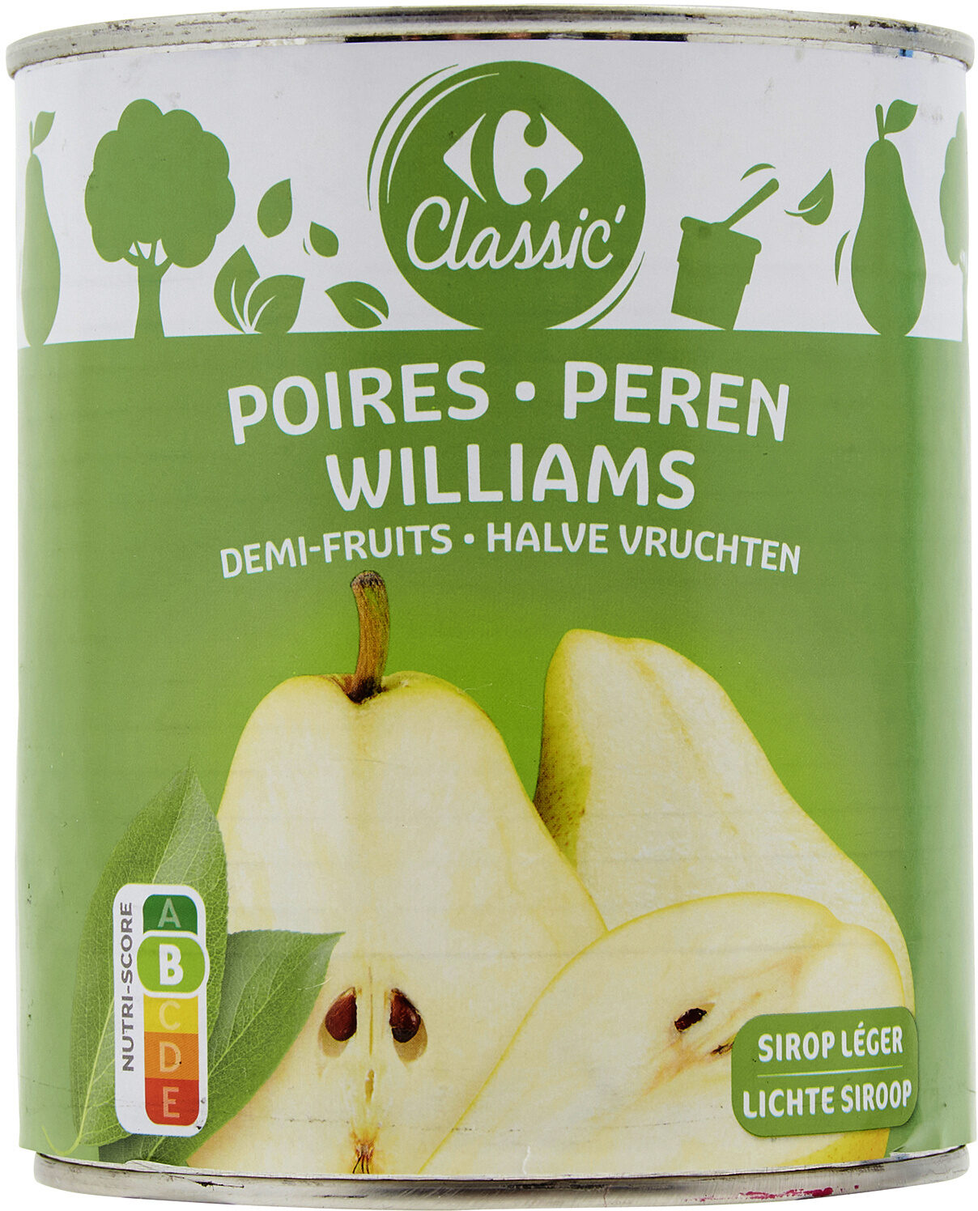Poires Williams: (49, 61, 929, 1150)
